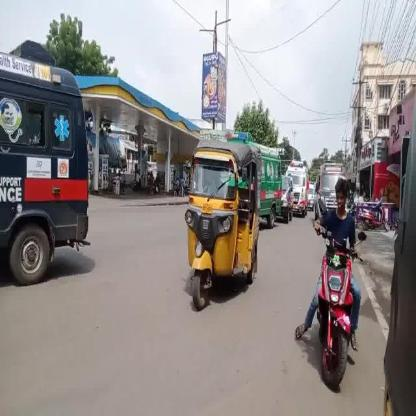auto-rikshaw: (182, 133, 266, 307)
bike: (306, 188, 370, 390)
priority: (0, 46, 92, 288), (292, 161, 306, 211)
